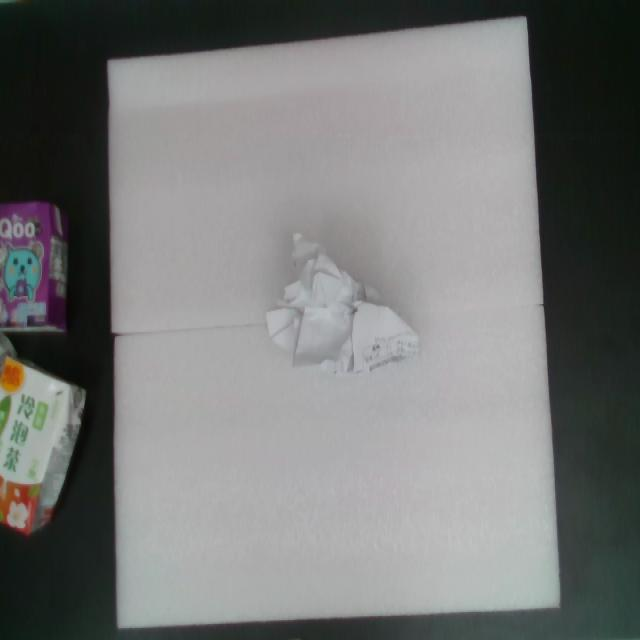juicebox: (0, 353, 101, 562)
paper: (238, 217, 456, 389)
